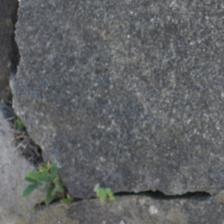Crack: (55, 0, 162, 66), (135, 0, 170, 126)
